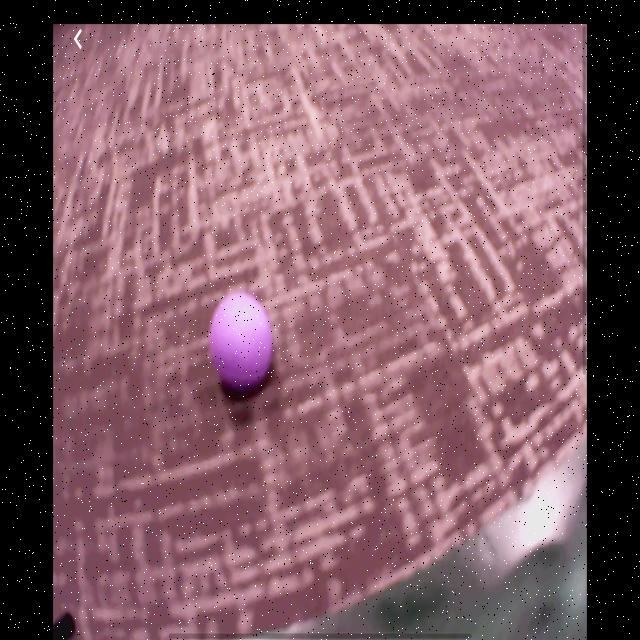ball: (212, 294, 271, 386)
